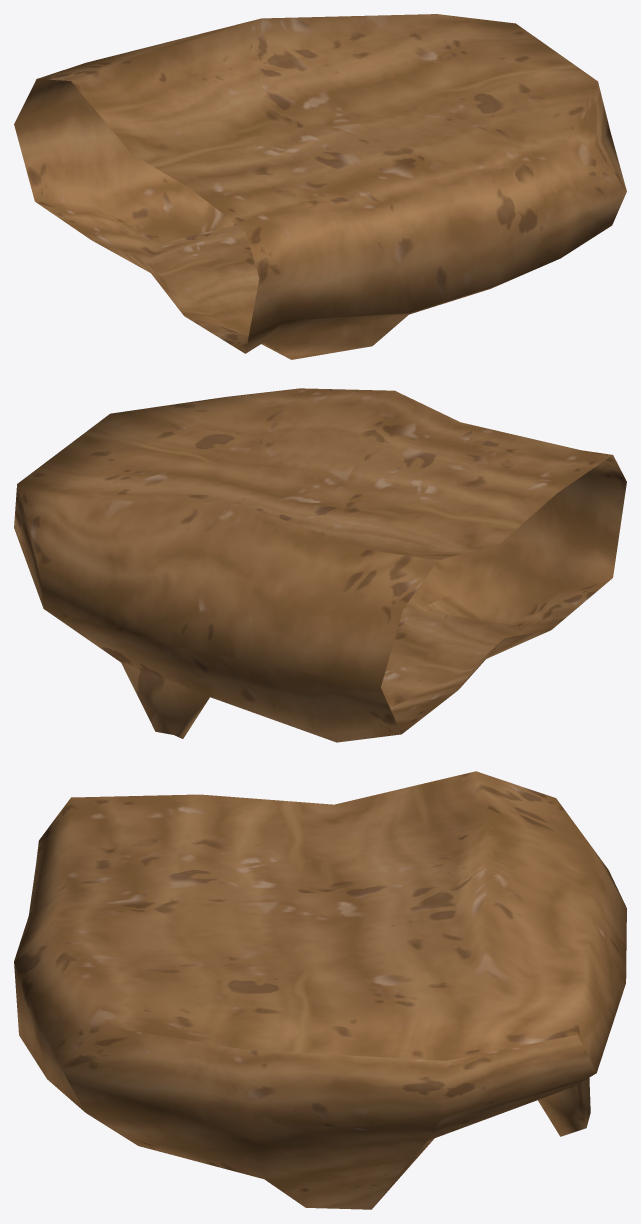
File: ledge_outdoor_A_flip_mesh.fbx
3 views of the same model, one above another, from view 1: azimuth 30°, elevation 25°; view 2: azimuth 150°, elevation 25°; view 3: azimuth 270°, elevation 25° (orthographic). The views are drawn at different scales.
Visible parts, largest first — view 1: ledge_outdoor_A_flip_mesh; view 2: ledge_outdoor_A_flip_mesh; view 3: ledge_outdoor_A_flip_mesh.
Part boxes in pixels (x1,y1,x2,y2): ledge_outdoor_A_flip_mesh: [14, 14, 626, 359]; ledge_outdoor_A_flip_mesh: [14, 388, 626, 742]; ledge_outdoor_A_flip_mesh: [14, 771, 626, 1209].
Bounding box in the file's own units: 103 × 53.87 × 107.
